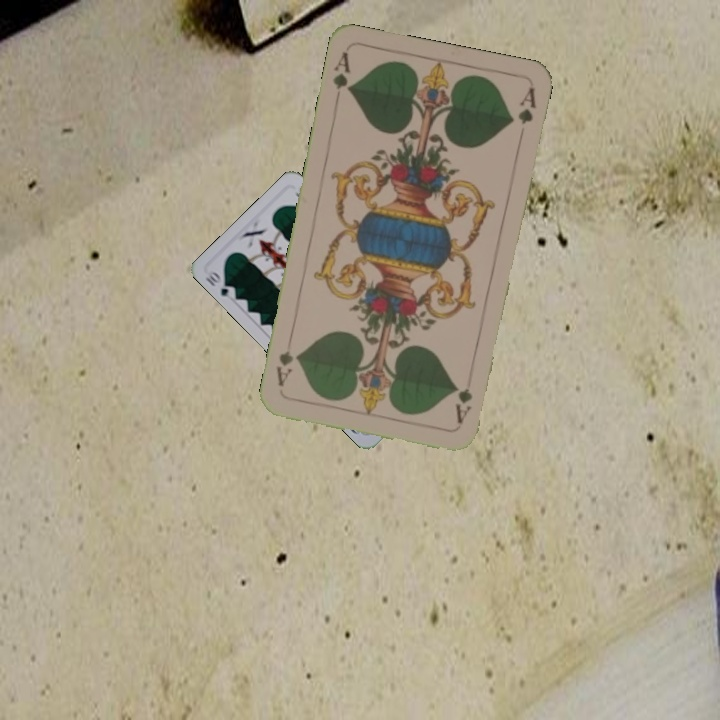G10: (201, 267, 239, 302)
GA: (452, 369, 476, 426), (328, 48, 354, 96)
